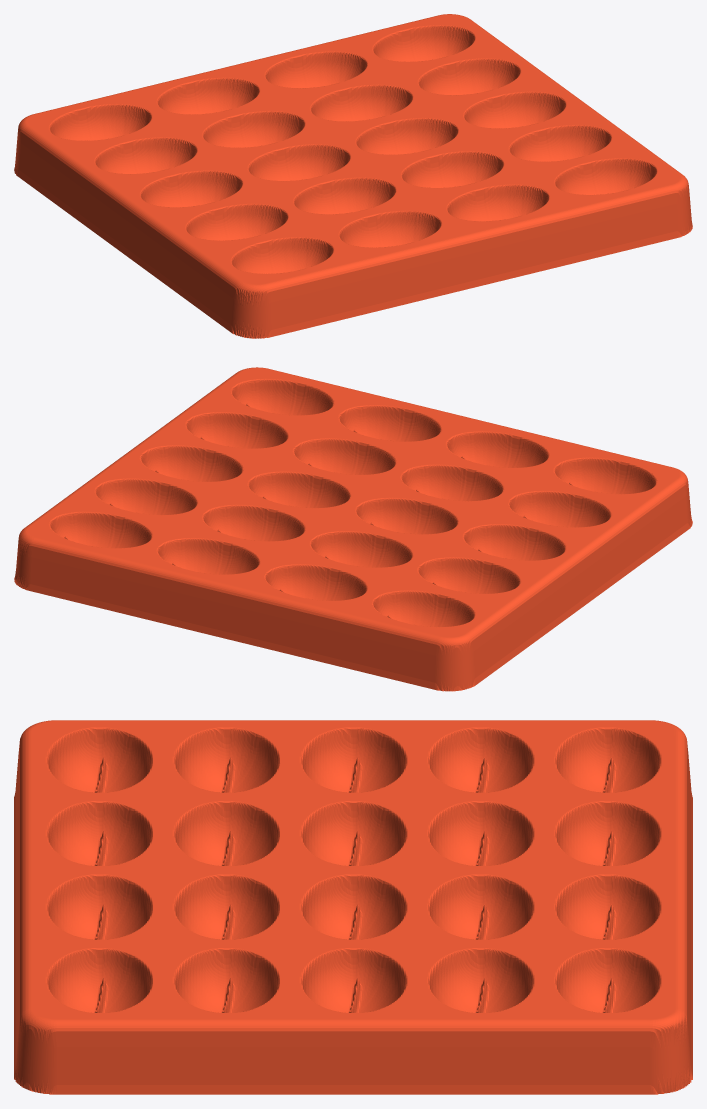
The model's file is mold.glb.
3 views of the same model, one above another, from view 1: azimuth 30°, elevation 25°; view 2: azimuth 150°, elevation 25°; view 3: azimuth 270°, elevation 25° (orthographic). The views are drawn at different scales.
Visible parts, largest first — view 1: geometry_0; view 2: geometry_0; view 3: geometry_0.
Part boxes in pixels (x1,y1,x2,y2): geometry_0: (14,14,692,338); geometry_0: (14,367,692,691); geometry_0: (14,720,692,1094).
Size of the model in its own units: 0.1563 by 0.0159 by 0.1435.
